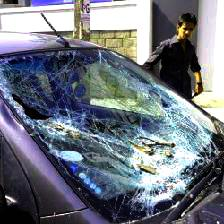glass_shatter: (9, 51, 193, 197)
